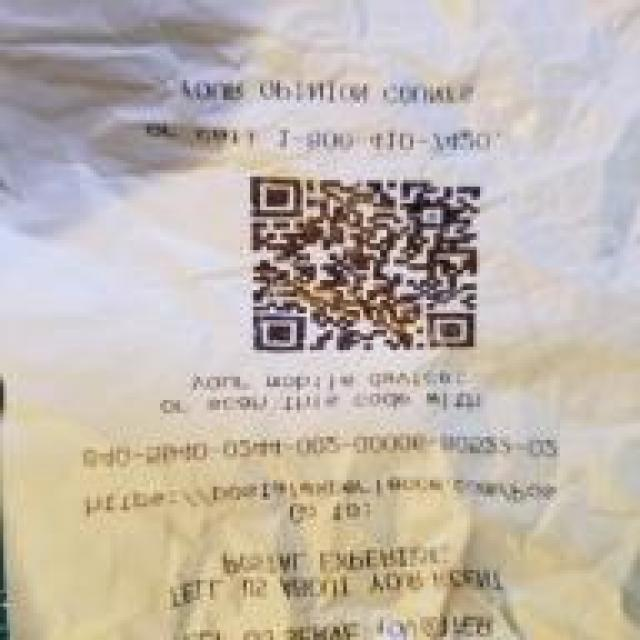QR_CODE: (237, 165, 495, 367)
